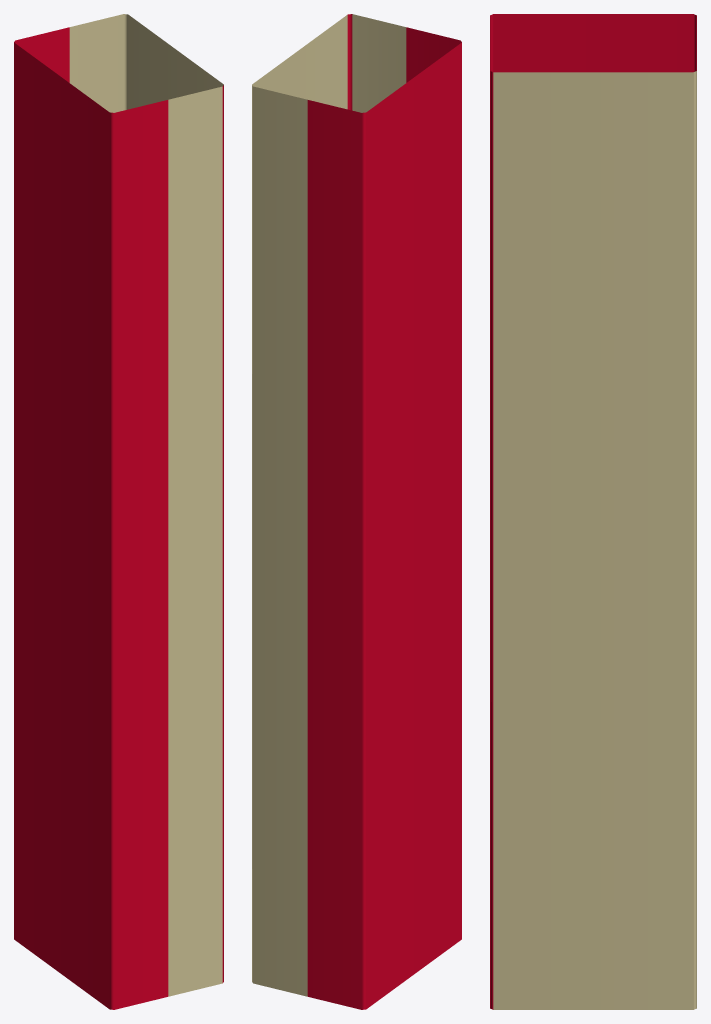
Rendered from SM_Wall_Pillar.fbx.
The picture shows the model from 3 angles, left to right: view 1: azimuth 30°, elevation 25°; view 2: azimuth 150°, elevation 25°; view 3: azimuth 270°, elevation 25°; orthographic projection. The views are drawn at different scales.
Visible parts, largest first — view 1: pCube10; view 2: pCube10; view 3: pCube10.
Part boxes in pixels (box(x1,y1,x2,y2)): pCube10: box(14, 14, 223, 1009); pCube10: box(252, 14, 461, 1009); pCube10: box(490, 14, 696, 1009).
Bounding box in the file's own units: 40 × 300 × 60.
